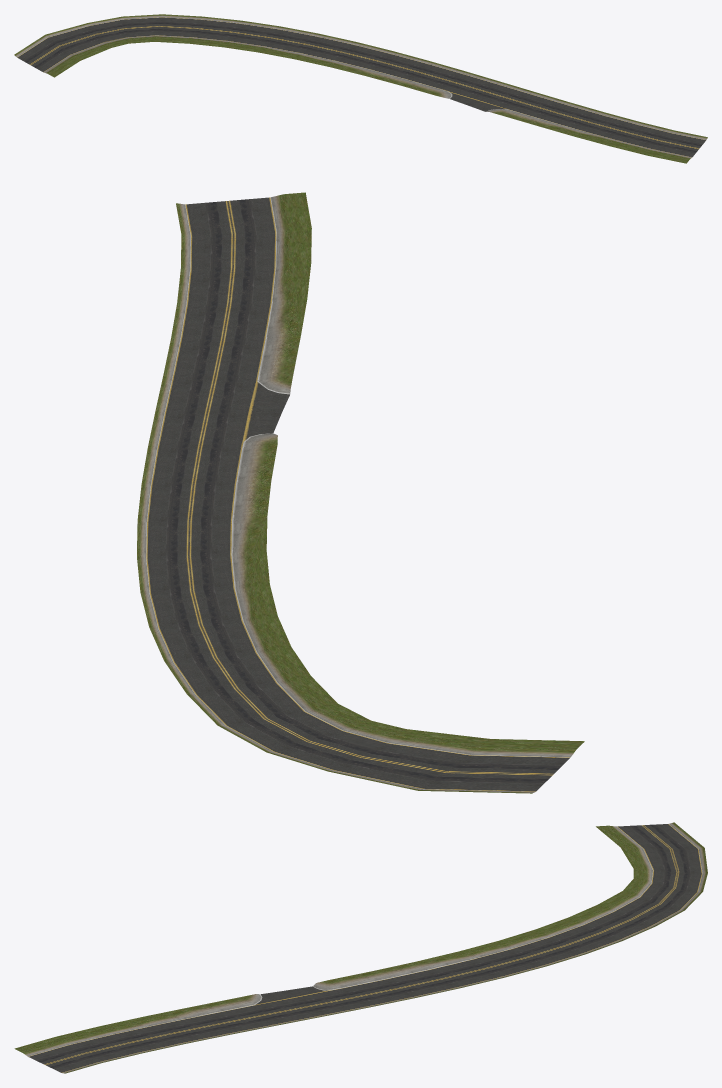
File: cunte_roads73.obj
3 renders of one model, top to bottom at view 1: azimuth 30°, elevation 25°; view 2: azimuth 150°, elevation 25°; view 3: azimuth 270°, elevation 25°, orthographic. The views are drawn at different scales.
Visible parts, largest first — view 1: cunte_roads73; view 2: cunte_roads73; view 3: cunte_roads73.
Part boxes in pixels (x1,y1,x2,y2): cunte_roads73: [14, 14, 707, 163]; cunte_roads73: [137, 192, 584, 793]; cunte_roads73: [14, 822, 707, 1073].
Bounding box in the file's own units: 155 × 0.3497 × 181.
Materials: 3 (3 with a texture image).
